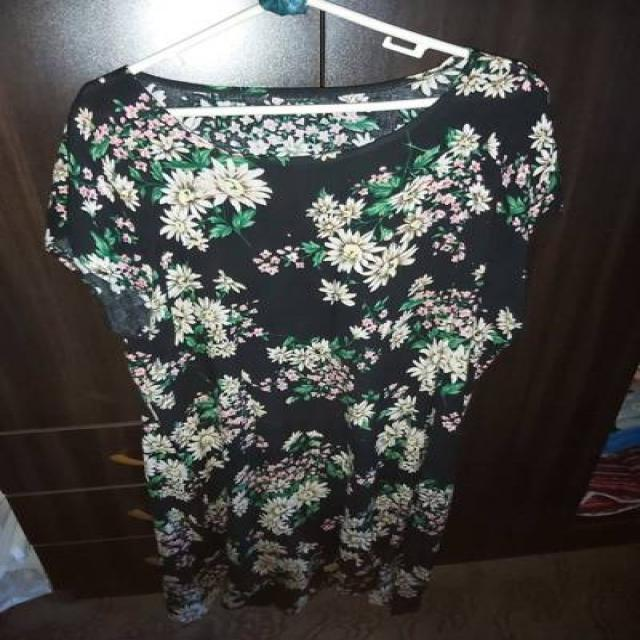Clothes -Biodegradable-: (43, 51, 565, 617)
